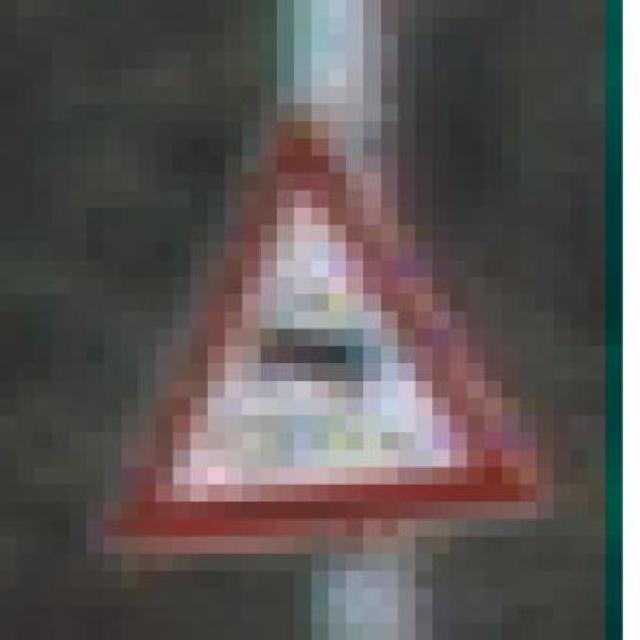Slippery Road Ahead: (86, 86, 571, 537)
